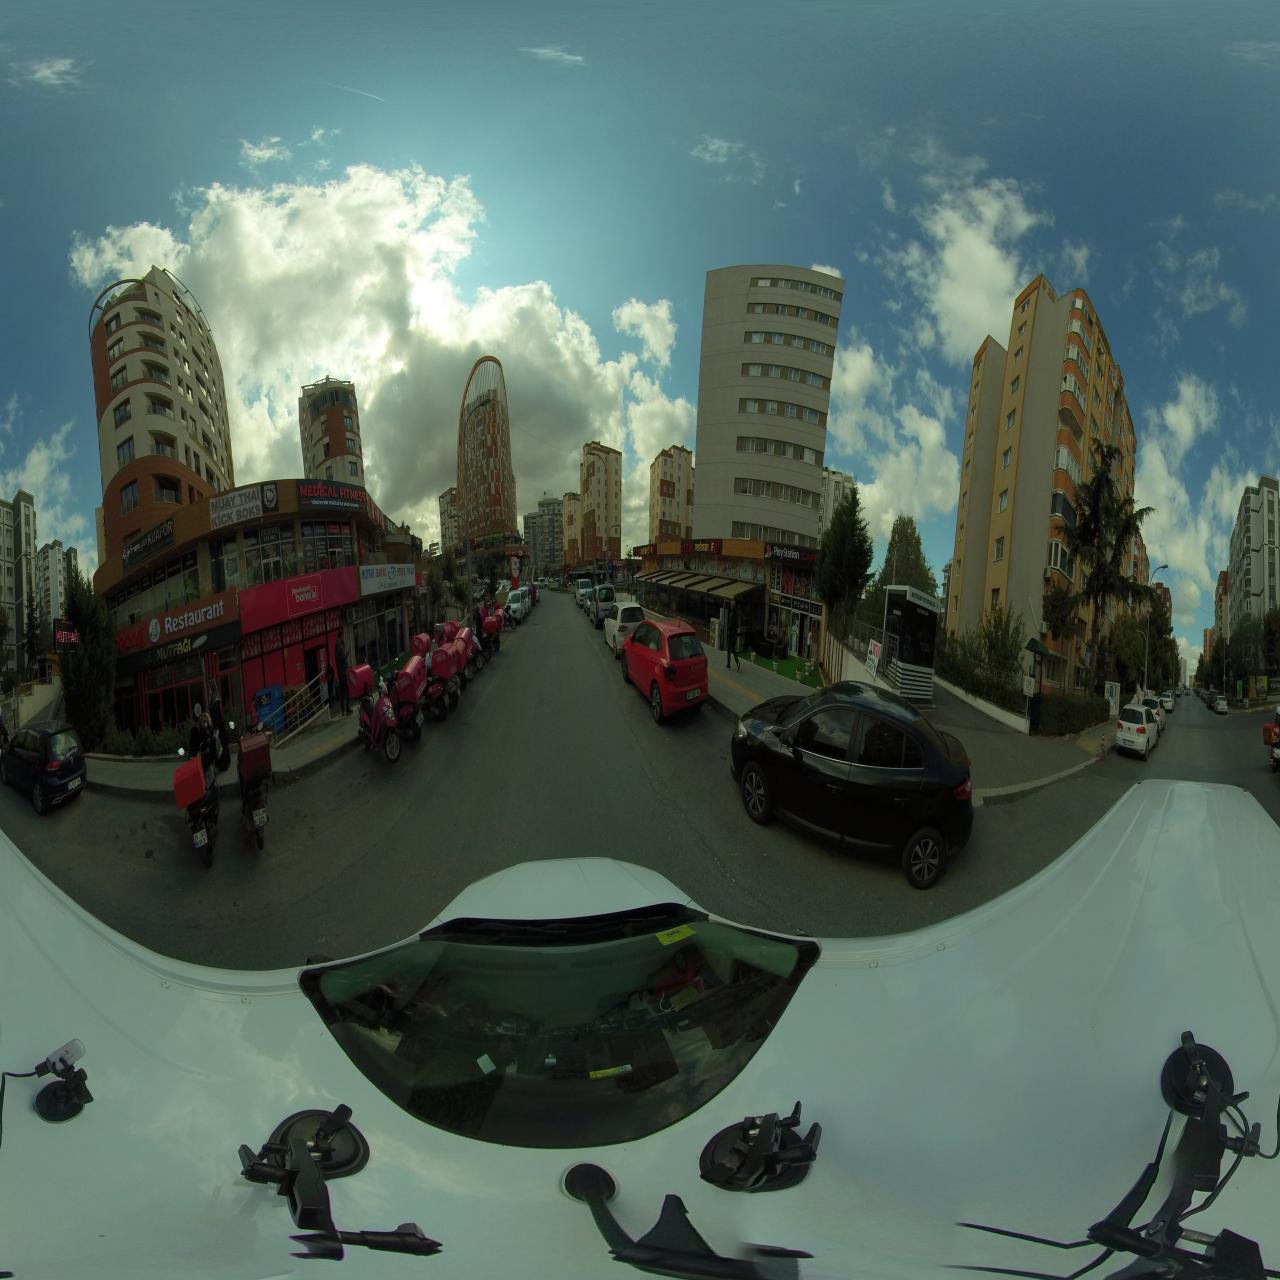SignStore: (121, 590, 233, 655), (122, 515, 175, 572), (123, 634, 192, 673), (297, 481, 368, 515), (282, 571, 329, 621), (360, 563, 416, 598), (765, 542, 817, 567), (681, 538, 721, 554), (633, 543, 656, 557)
